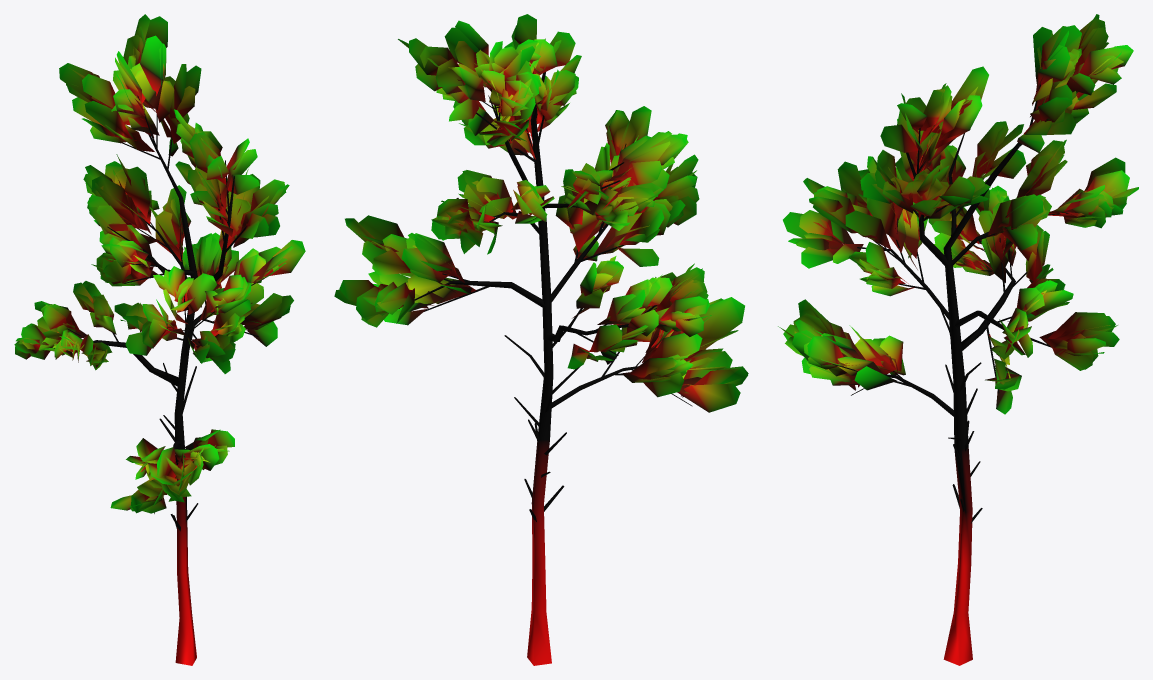
Rendered from Pine_1_LOD_2.fbx.
3 renders of one model, left to right at view 1: azimuth 30°, elevation 25°; view 2: azimuth 150°, elevation 25°; view 3: azimuth 270°, elevation 25°, orthographic. The views are drawn at different scales.
Visible parts, largest first — view 1: Pine_1_LOD_2; view 2: Pine_1_LOD_2; view 3: Pine_1_LOD_2.
Boxes of the visible parts, x1,y1,x2,y2 form: Pine_1_LOD_2: [14, 14, 305, 665]; Pine_1_LOD_2: [334, 14, 748, 665]; Pine_1_LOD_2: [778, 14, 1138, 665].
Size of the model in its own units: 20.37 by 37.58 by 19.37.
